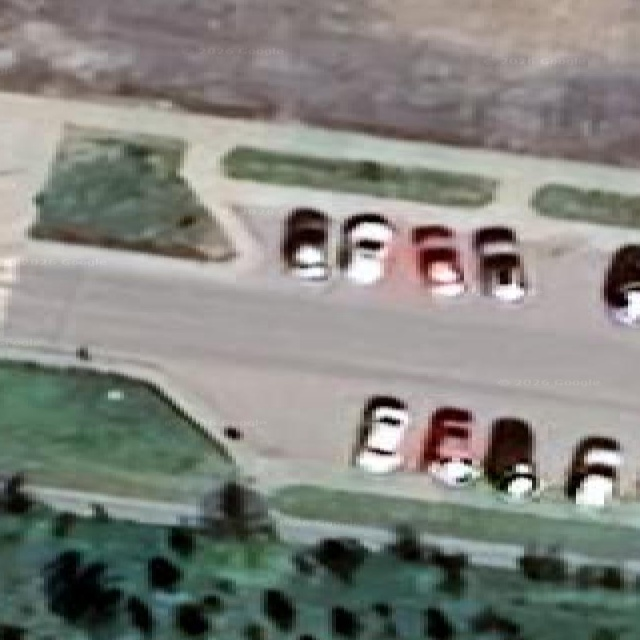car: (422, 407, 480, 486), (352, 395, 409, 472), (484, 417, 538, 498), (472, 226, 527, 301), (338, 213, 394, 284), (566, 436, 621, 506), (411, 225, 465, 296), (281, 208, 329, 280), (603, 245, 639, 325)
